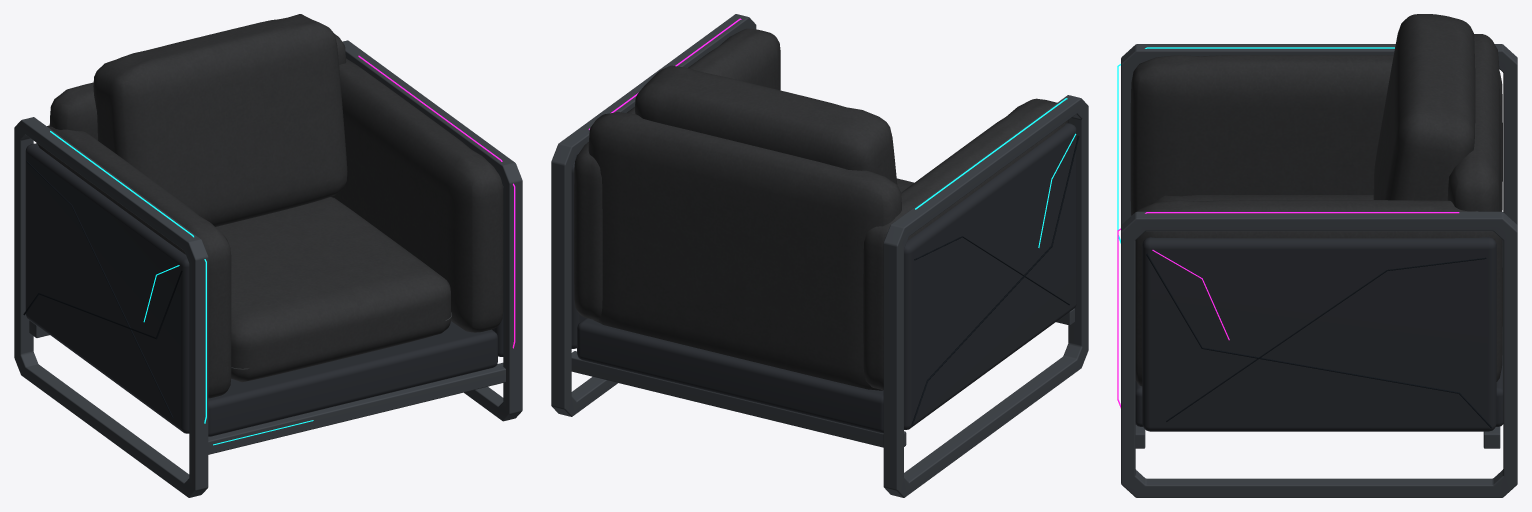
File: cyberpunk_poltrona.glb
3 renders of one model, left to right at view 1: azimuth 30°, elevation 25°; view 2: azimuth 150°, elevation 25°; view 3: azimuth 270°, elevation 25°, orthographic. The views are drawn at different scales.
Parts seen in each view (by area): view 1: poltrona; view 2: poltrona; view 3: poltrona.
Boxes of the visible parts, <box> form: poltrona: <box>14,14,522,497</box>; poltrona: <box>551,14,1088,497</box>; poltrona: <box>1117,14,1517,497</box>.
Bounding box in the file's own units: 0.9318 × 0.8549 × 0.8887.
Materials: 8 (2 with a texture image).
